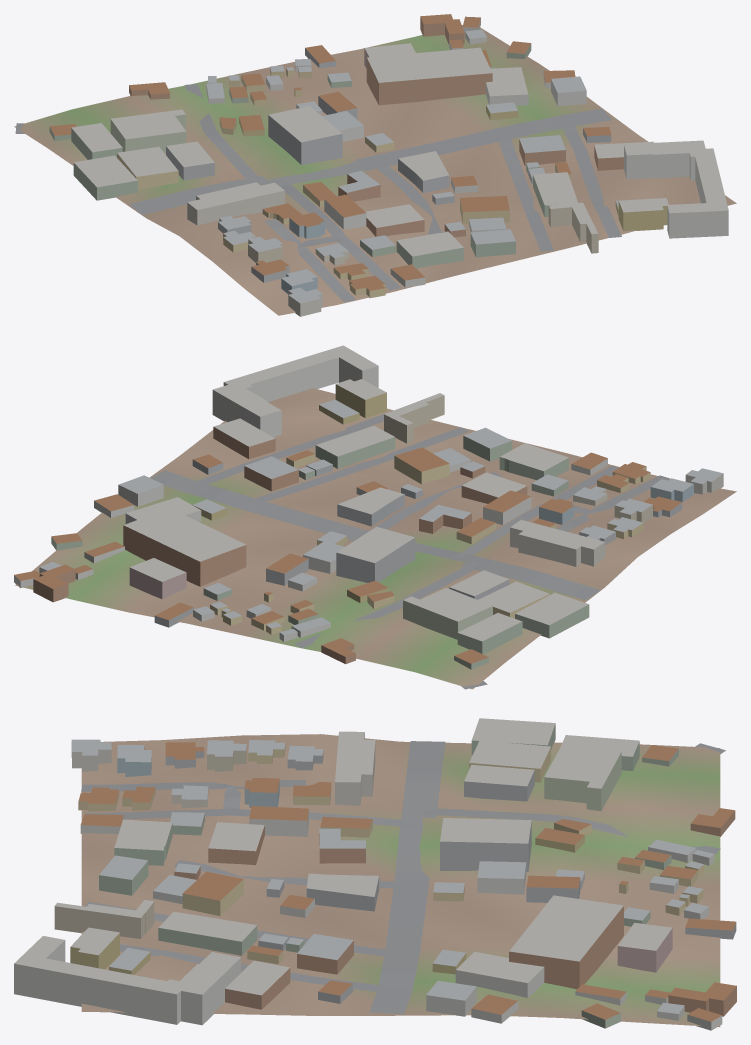
3 renders of one model, top to bottom at view 1: azimuth 30°, elevation 25°; view 2: azimuth 150°, elevation 25°; view 3: azimuth 270°, elevation 25°, orthographic. The views are drawn at different scales.
Visible parts, largest first — view 1: Lo; view 2: Lo; view 3: Lo.
Part boxes in pixels (bbox=[...]): Lo: bbox=[14, 14, 736, 316]; Lo: bbox=[14, 345, 736, 689]; Lo: bbox=[14, 718, 736, 1030].
Bounding box in the file's own units: 275 × 19.21 × 290.
